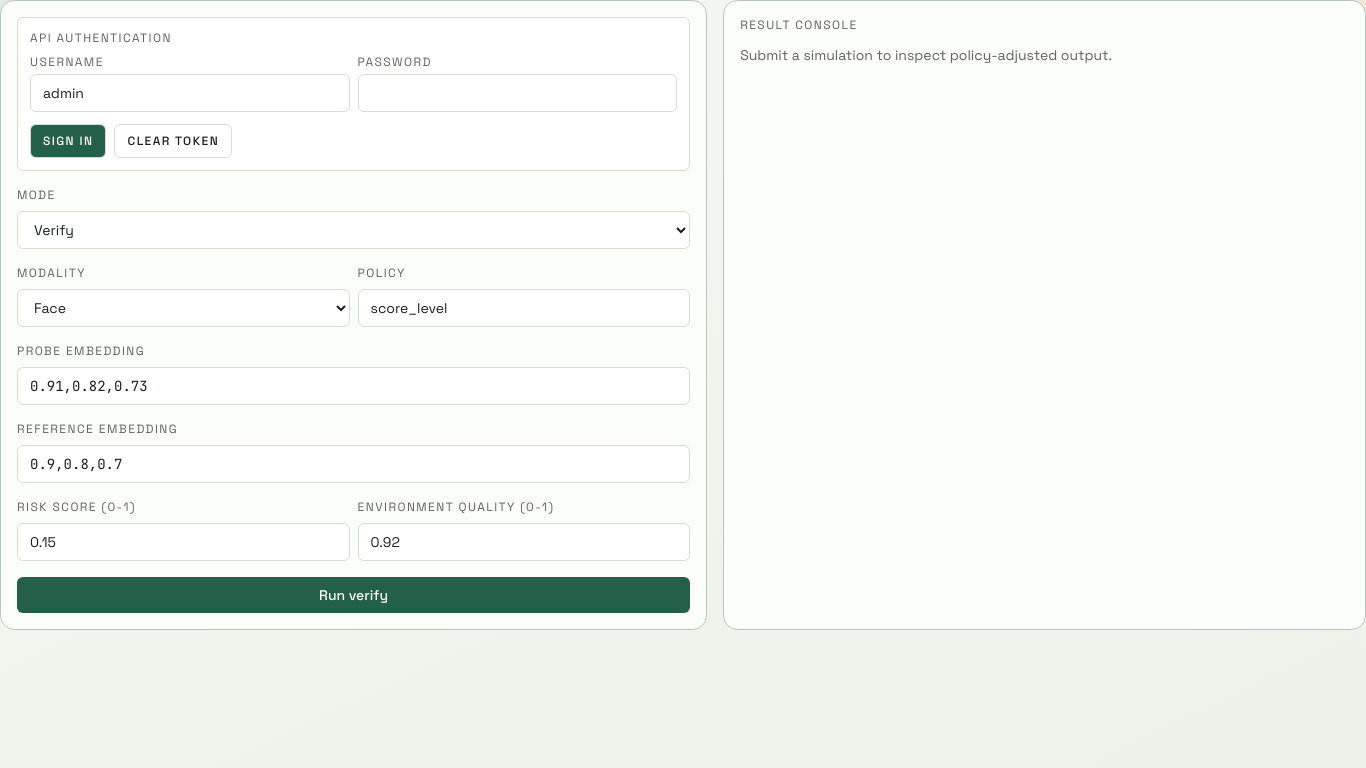
Test: AuthenticationSimulator › switches to identify mode and submits identify request
Select "Identify" in the dropdown labelled "Mode" at (354, 230), box left=17, top=211, right=690, bottom=249
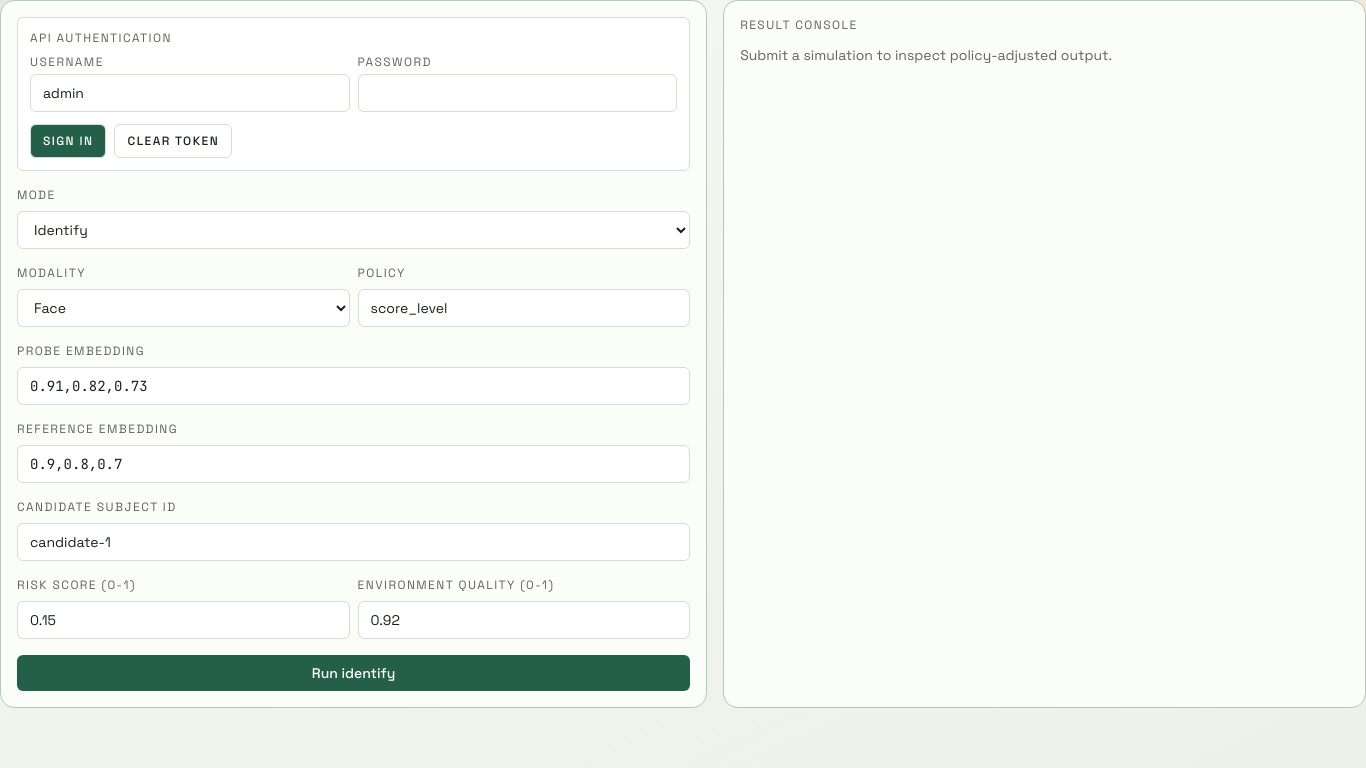
Click the button "Run identify" at (354, 673), box left=17, top=655, right=690, bottom=691
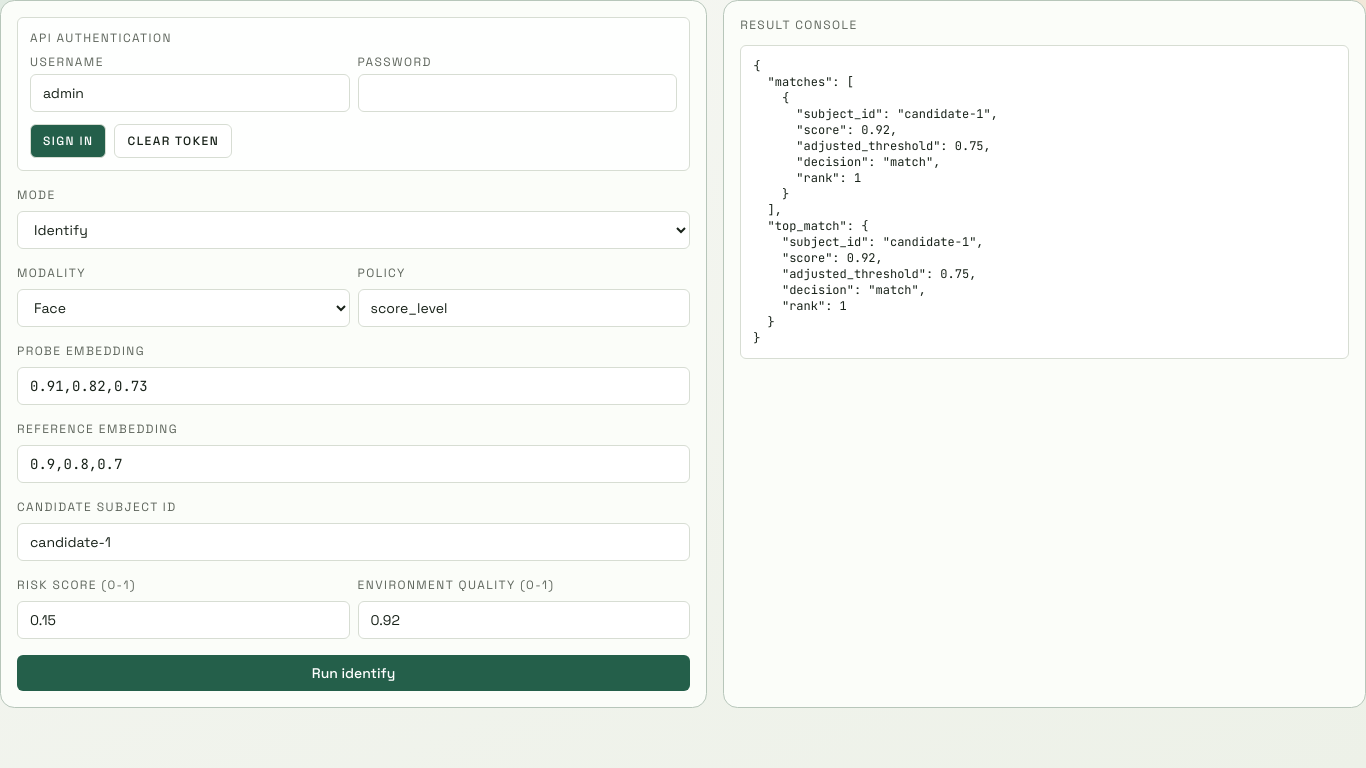
Now the text "\"subject_id\": \"candidate-1\"" is shown, box left=753, top=58, right=998, bottom=346
